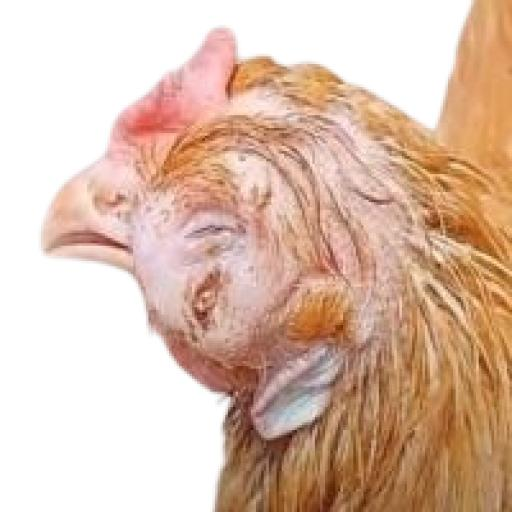disease: (140, 157, 290, 350)
